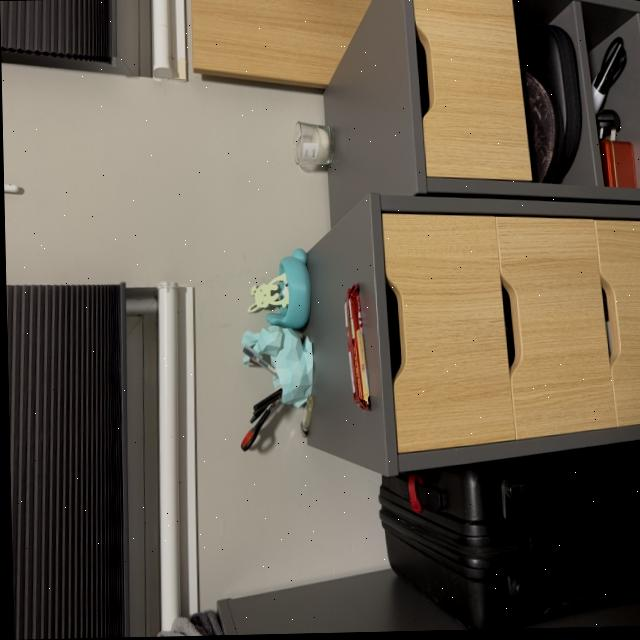chocolate: (339, 280, 372, 418)
